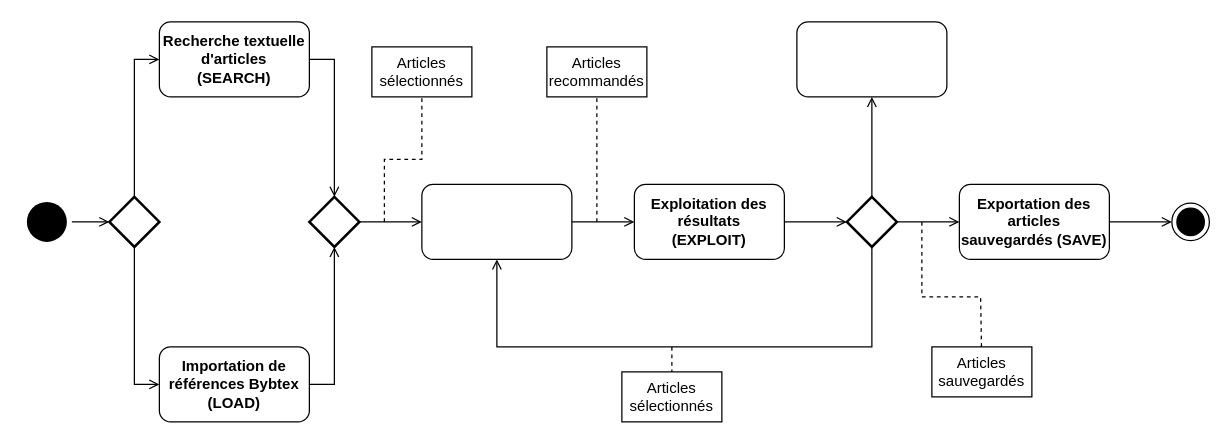
This 1231x444 diagram has some shape labels left out. The box of each missing label's shape, as (x1, y1, x2, y2) in pixels:
Dashboard (DASHBOARD): (796, 21, 947, 97)
Recommandation (RECOMMEND): (421, 183, 572, 259)
